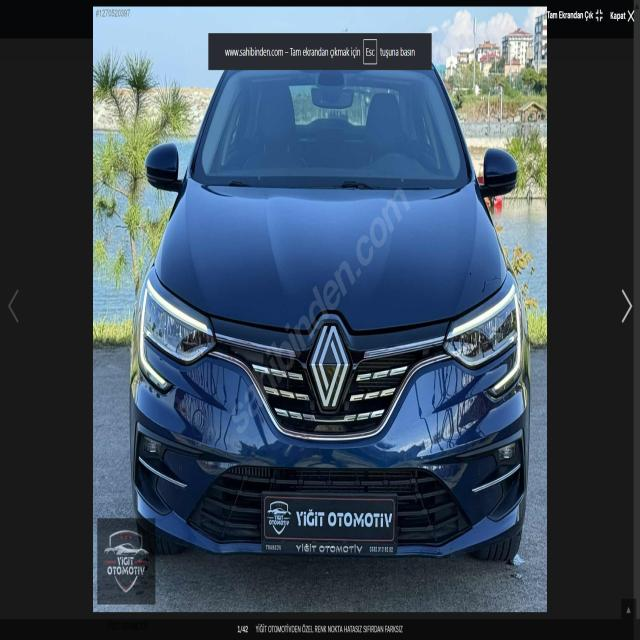renault: (306, 308, 356, 416)
